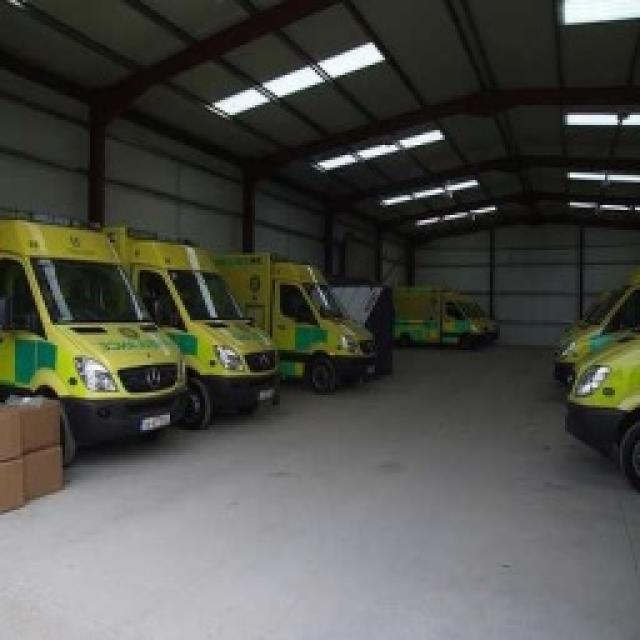emergency-vehicle: (0, 191, 183, 462), (90, 221, 284, 419), (196, 247, 376, 394), (545, 290, 640, 492), (537, 265, 640, 405), (363, 284, 502, 347)
